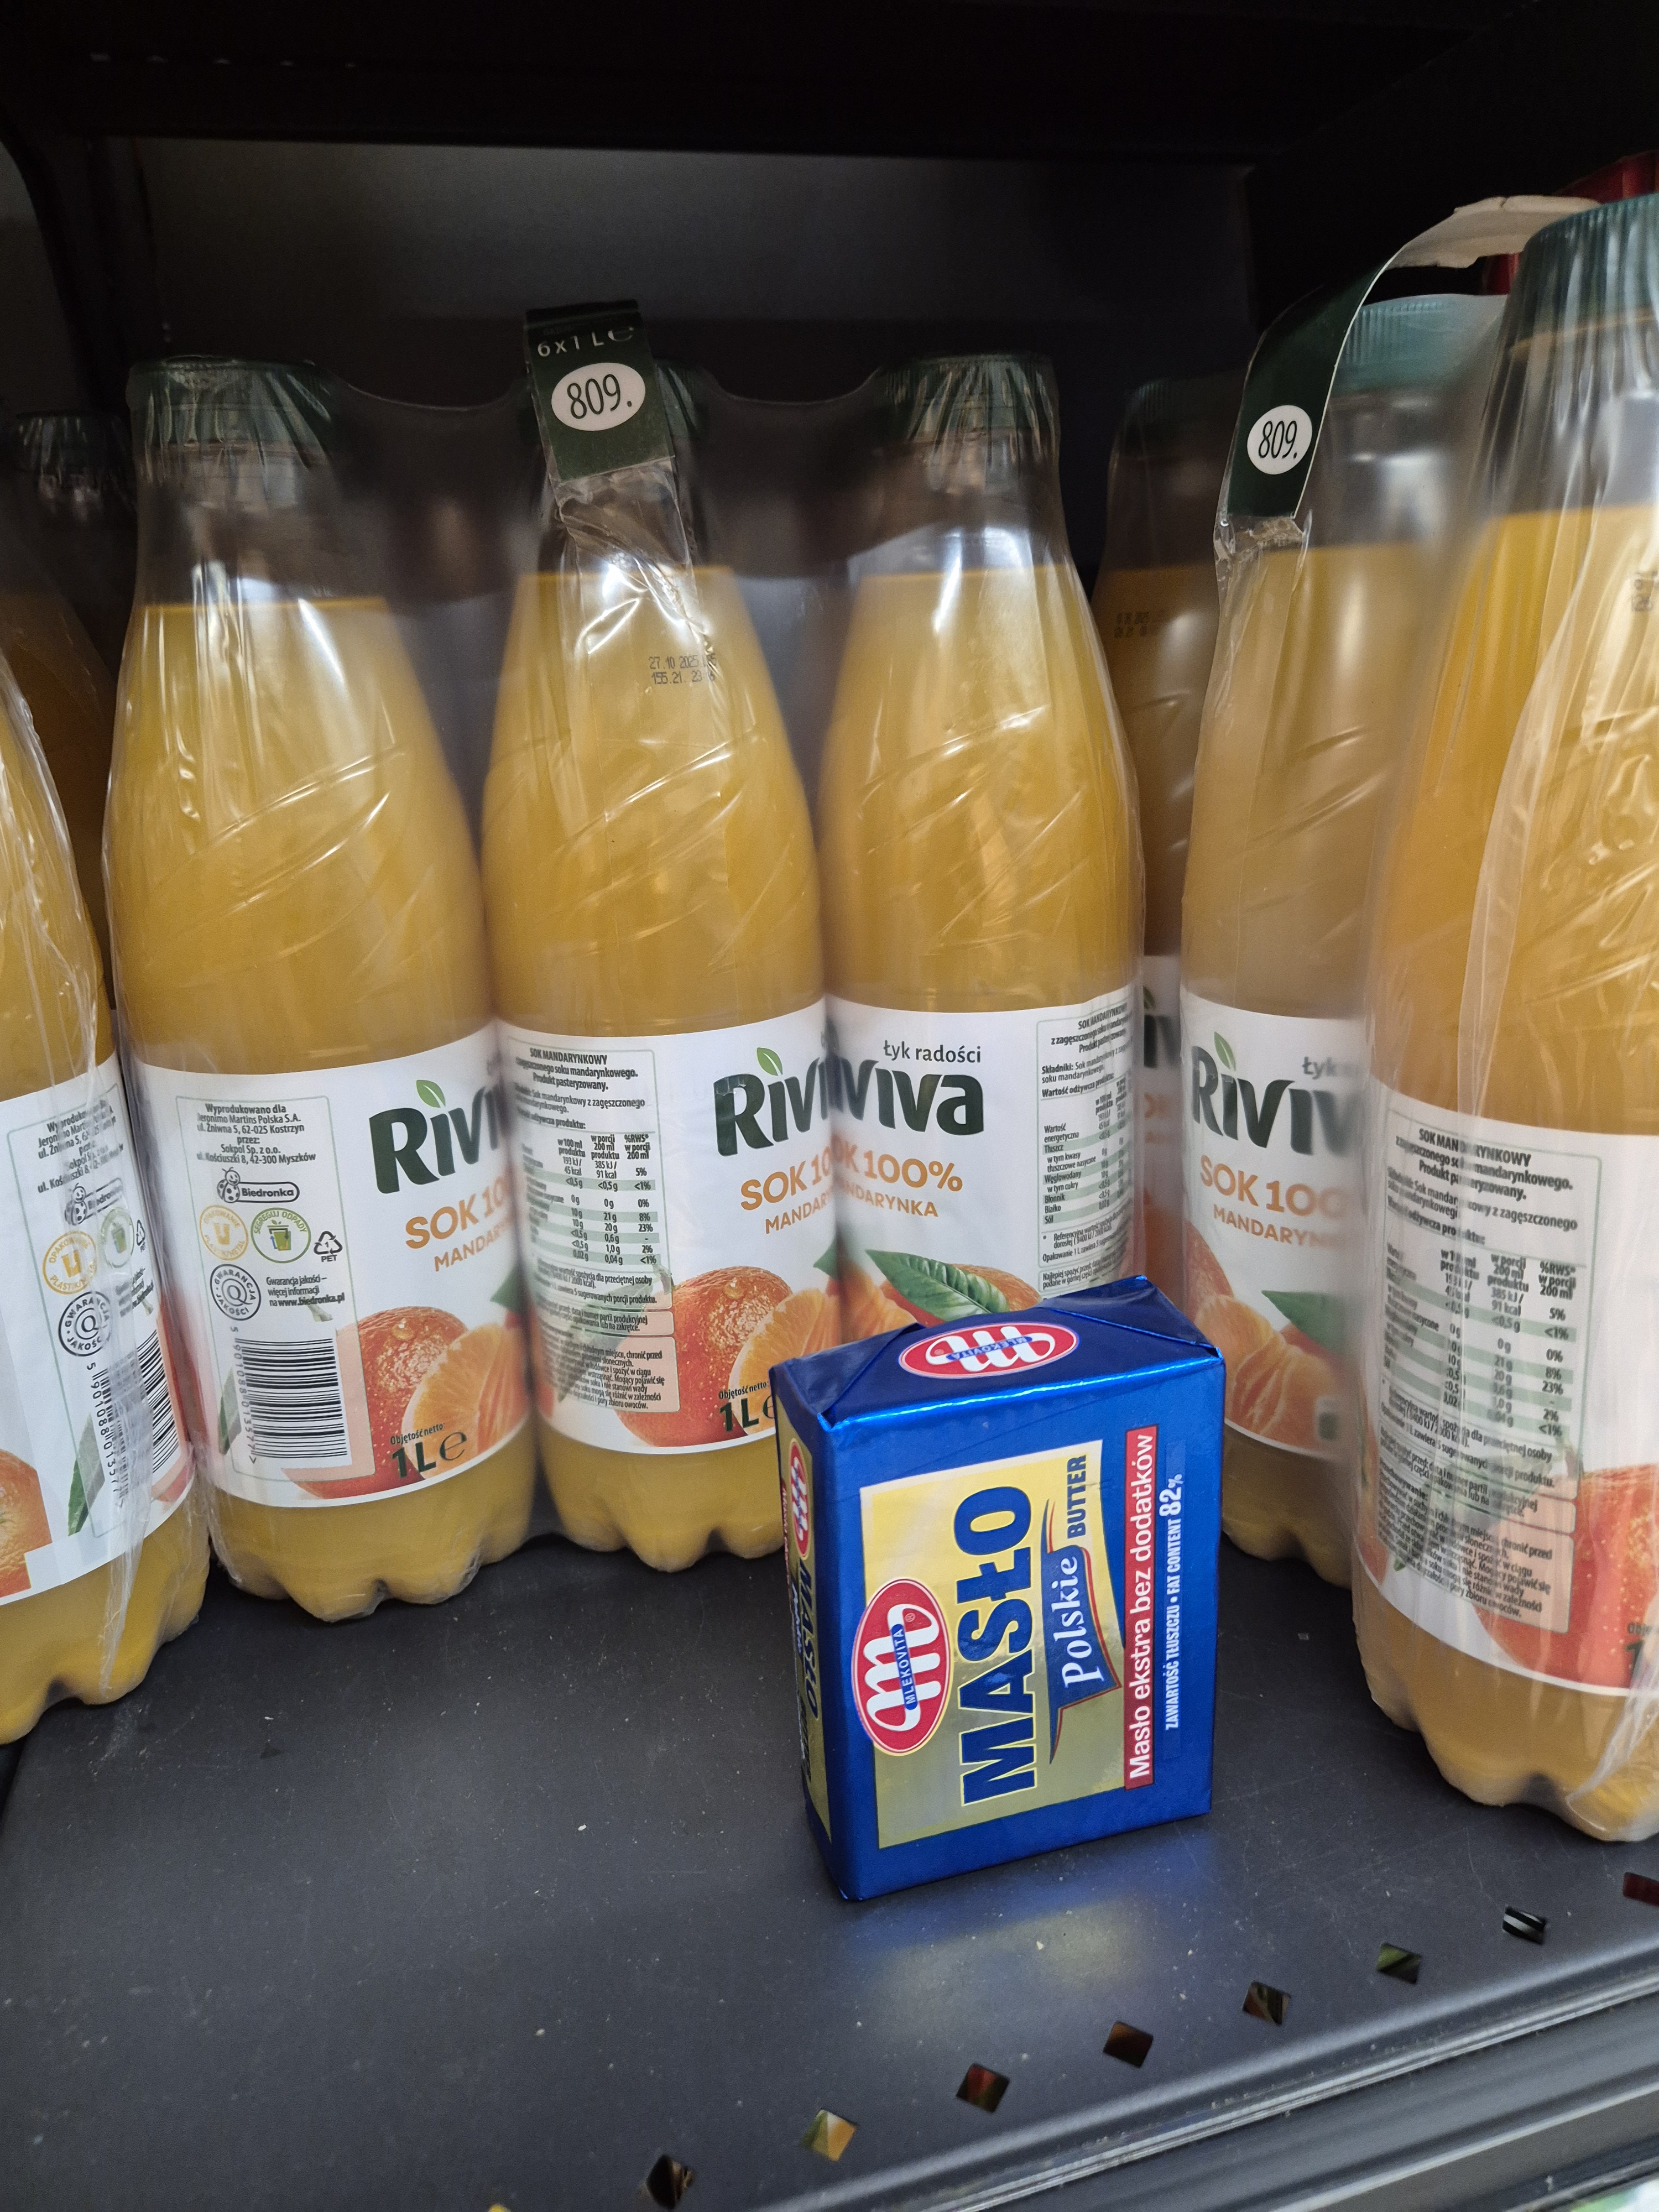Butter: (775, 1299, 1234, 1860)
